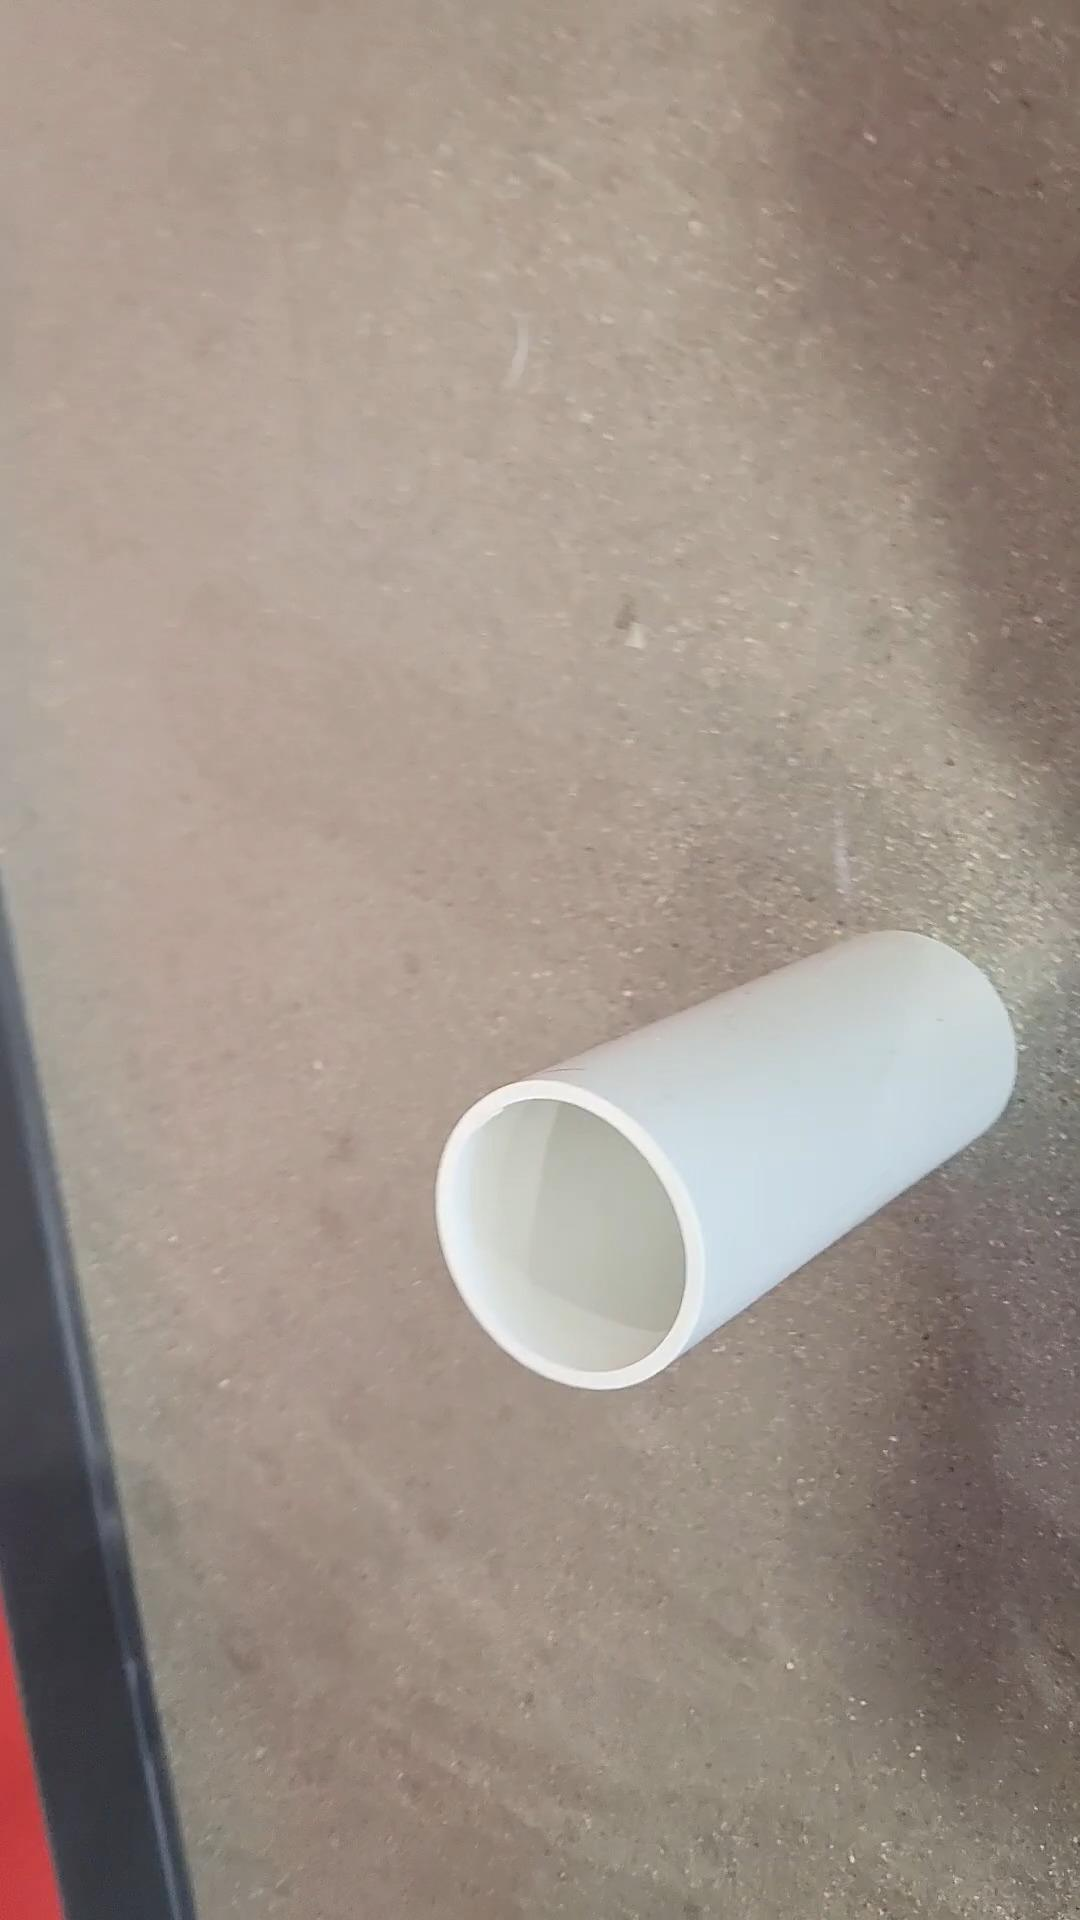coral: (434, 927, 1013, 1407)
